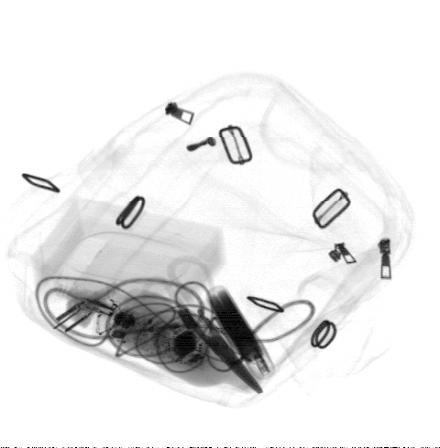Powerbank: (203, 282, 274, 381)
Scissors: (139, 254, 268, 398)
